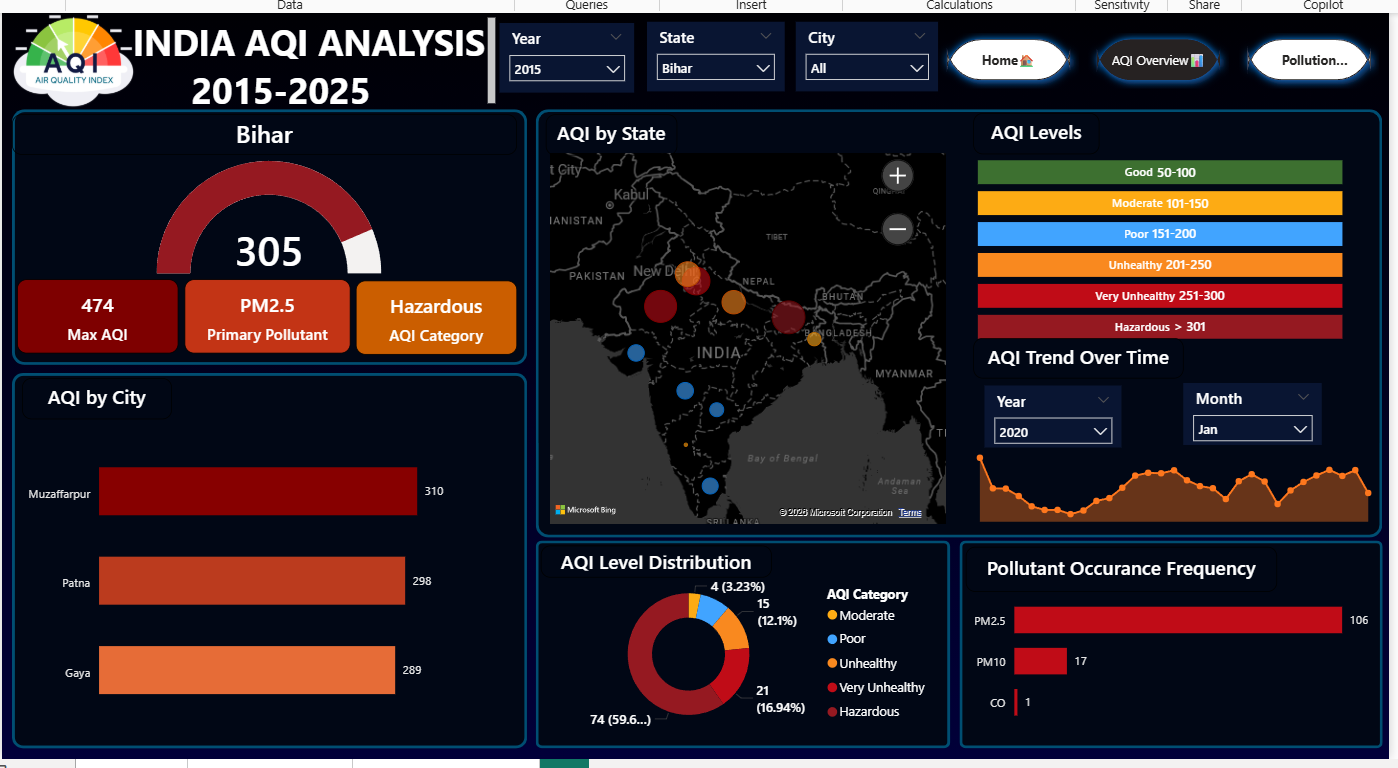

This screenshot's page, from the dashboard's own definition file:
{"tool":"powerbi","page":{"name":"AQI Overview📊","canvas":[1450,780],"ordinal":1},"visuals":[{"type":"shape","box":[10.5,100.1,538.7,267.4],"z":0},{"type":"textbox","box":[100.1,0,420.2,104.1],"z":1000},{"type":"image","box":[8.8,0,131.2,100],"z":2000},{"type":"gauge","fields":{"Y":["india_aqi_project aqi_data.Avg AQI"]},"box":[156.2,141.2,245,145],"z":3000},{"type":"slicer","fields":{"Values":["india_aqi_project aqi_data.state"]},"box":[674.4,9.1,143.8,73.2],"z":4000},{"type":"slicer","fields":{"Values":["india_aqi_project aqi_data.area"]},"box":[829.9,9.1,149,73.2],"z":5000},{"type":"card","fields":{"Values":["Max(india_aqi_project aqi_data.aqi_value)"]},"box":[16.2,278.8,168.8,77.5],"z":6000},{"type":"card","fields":{"Values":["india_aqi_project aqi_data.Primary Pollutant"]},"box":[190.6,278.8,173.8,77.5],"z":7000},{"type":"card","fields":{"Values":["india_aqi_project aqi_data.AQI Category KPI"]},"box":[370.1,279.3,168.6,77.7],"z":8000},{"type":"card","fields":{"Values":["india_aqi_project aqi_data.KPI Title"]},"box":[10.5,105.4,528.2,42.2],"z":9000},{"type":"shape","box":[558.5,100.1,885.2,447.9],"z":10000},{"type":"map","fields":{"Category":["india_aqi_project aqi_data.state"],"Size":["india_aqi_project aqi_data.Avg AQI"]},"box":[569,140.9,422.8,397.8],"z":11000},{"type":"card","fields":{"Values":["india_aqi_project aqi_data.State Map Title"]},"box":[568.5,105.9,137.2,43.1],"z":12000},{"type":"slicer","fields":{"Values":["Calendar Table.Year"]},"box":[520.2,10.5,141.2,73.2],"z":13000},{"type":"barChart","fields":{"Category":["india_aqi_project aqi_data.AQI Category"],"Y":["india_aqi_project aqi_data.Label"]},"box":[1015.6,140.9,391.2,205.5],"z":14000},{"type":"card","fields":{"Values":["india_aqi_project aqi_data.AQI Level Title"]},"box":[1015.5,104.6,132,43.1],"z":15000},{"type":"areaChart","fields":{"Category":["Calendar Table.Date.Variation.Date Hierarchy.Day"],"Y":["india_aqi_project aqi_data.Avg AQI"]},"box":[1007.7,418.9,436,119.9],"z":16000},{"type":"slicer","fields":{"Values":["Calendar Table.Date.Variation.Date Hierarchy.Year"]},"box":[1027.4,389.9,143.6,64.5],"z":17000},{"type":"slicer","fields":{"Values":["Calendar Table.Month"]},"box":[1235.6,387.3,144.9,64.5],"z":18000},{"type":"card","fields":{"Values":["india_aqi_project aqi_data.Title for Monthly Chart"]},"box":[1015.6,339.8,220,42.2],"z":19000},{"type":"shape","box":[10.5,376.7,538.7,392.5],"z":20000},{"type":"barChart","fields":{"Y":["india_aqi_project aqi_data.Avg AQI"],"Category":["india_aqi_project aqi_data.area"]},"box":[15.7,424.8,522.8,335.9],"z":21000},{"type":"shape","box":[558.5,551.9,433.4,217.3],"z":22000},{"type":"donutChart","fields":{"Category":["india_aqi_project aqi_data.AQI Category"],"Y":["india_aqi_project aqi_data.Count of Rows"]},"box":[569,582.2,411,177.8],"z":23000},{"type":"card","fields":{"Values":["india_aqi_project aqi_data.Dount Title"]},"box":[563.3,556.8,241.8,34],"z":24000},{"type":"shape","box":[1001.1,551.9,442.6,217.3],"z":25000},{"type":"barChart","fields":{"Y":["india_aqi_project aqi_data.Count of Rows"],"Category":["india_aqi_project aqi_data.prominent_pollutants"]},"box":[1007.7,590.8,427.4,168.6],"z":26000},{"type":"card","fields":{"Values":["india_aqi_project aqi_data.Title For City"]},"box":[21.1,382,156.8,43.5],"z":27000},{"type":"card","fields":{"Values":["india_aqi_project aqi_data.Pollutant Title"]},"box":[1007.7,558.1,325.4,47.1],"z":28000},{"type":"pageNavigator","box":[978.9,18.3,464,61.4],"z":29000}]}

Visuals, with their boxes on the page's 1450x780 design canvas (x1, y1, x2, y2). These are canvas units, not pixel positions in the 1398x768 screenshot, which may show the page scaled, cropped or inside an application window:
shape: {"x1": 10, "y1": 100, "x2": 549, "y2": 368}
textbox: {"x1": 100, "y1": 0, "x2": 520, "y2": 104}
image: {"x1": 9, "y1": 0, "x2": 140, "y2": 100}
gauge - india_aqi_project aqi_data.Avg AQI: {"x1": 156, "y1": 141, "x2": 401, "y2": 286}
slicer - india_aqi_project aqi_data.state: {"x1": 674, "y1": 9, "x2": 818, "y2": 82}
slicer - india_aqi_project aqi_data.area: {"x1": 830, "y1": 9, "x2": 979, "y2": 82}
card - Max(india_aqi_project aqi_data.aqi_value): {"x1": 16, "y1": 279, "x2": 185, "y2": 356}
card - india_aqi_project aqi_data.Primary Pollutant: {"x1": 191, "y1": 279, "x2": 364, "y2": 356}
card - india_aqi_project aqi_data.AQI Category KPI: {"x1": 370, "y1": 279, "x2": 539, "y2": 357}
card - india_aqi_project aqi_data.KPI Title: {"x1": 10, "y1": 105, "x2": 539, "y2": 148}
shape: {"x1": 558, "y1": 100, "x2": 1444, "y2": 548}
map - india_aqi_project aqi_data.state x india_aqi_project aqi_data.Avg AQI: {"x1": 569, "y1": 141, "x2": 992, "y2": 539}
card - india_aqi_project aqi_data.State Map Title: {"x1": 568, "y1": 106, "x2": 706, "y2": 149}
slicer - Calendar Table.Year: {"x1": 520, "y1": 10, "x2": 661, "y2": 84}
barChart - india_aqi_project aqi_data.AQI Category x india_aqi_project aqi_data.Label: {"x1": 1016, "y1": 141, "x2": 1407, "y2": 346}
card - india_aqi_project aqi_data.AQI Level Title: {"x1": 1016, "y1": 105, "x2": 1148, "y2": 148}
areaChart - Calendar Table.Date.Variation.Date Hierarchy.Day x india_aqi_project aqi_data.Avg AQI: {"x1": 1008, "y1": 419, "x2": 1444, "y2": 539}
slicer - Calendar Table.Date.Variation.Date Hierarchy.Year: {"x1": 1027, "y1": 390, "x2": 1171, "y2": 454}
slicer - Calendar Table.Month: {"x1": 1236, "y1": 387, "x2": 1380, "y2": 452}
card - india_aqi_project aqi_data.Title for Monthly Chart: {"x1": 1016, "y1": 340, "x2": 1236, "y2": 382}
shape: {"x1": 10, "y1": 377, "x2": 549, "y2": 769}
barChart - india_aqi_project aqi_data.Avg AQI x india_aqi_project aqi_data.area: {"x1": 16, "y1": 425, "x2": 538, "y2": 761}
shape: {"x1": 558, "y1": 552, "x2": 992, "y2": 769}
donutChart - india_aqi_project aqi_data.AQI Category x india_aqi_project aqi_data.Count of Rows: {"x1": 569, "y1": 582, "x2": 980, "y2": 760}
card - india_aqi_project aqi_data.Dount Title: {"x1": 563, "y1": 557, "x2": 805, "y2": 591}
shape: {"x1": 1001, "y1": 552, "x2": 1444, "y2": 769}
barChart - india_aqi_project aqi_data.Count of Rows x india_aqi_project aqi_data.prominent_pollutants: {"x1": 1008, "y1": 591, "x2": 1435, "y2": 759}
card - india_aqi_project aqi_data.Title For City: {"x1": 21, "y1": 382, "x2": 178, "y2": 426}
card - india_aqi_project aqi_data.Pollutant Title: {"x1": 1008, "y1": 558, "x2": 1333, "y2": 605}
pageNavigator: {"x1": 979, "y1": 18, "x2": 1443, "y2": 80}
